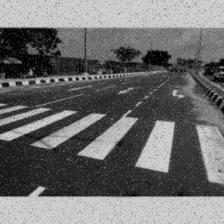crosswalk: (0, 99, 223, 188)
